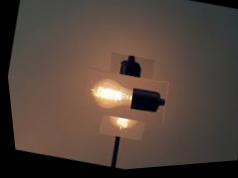Bulb: (81, 57, 165, 138)
